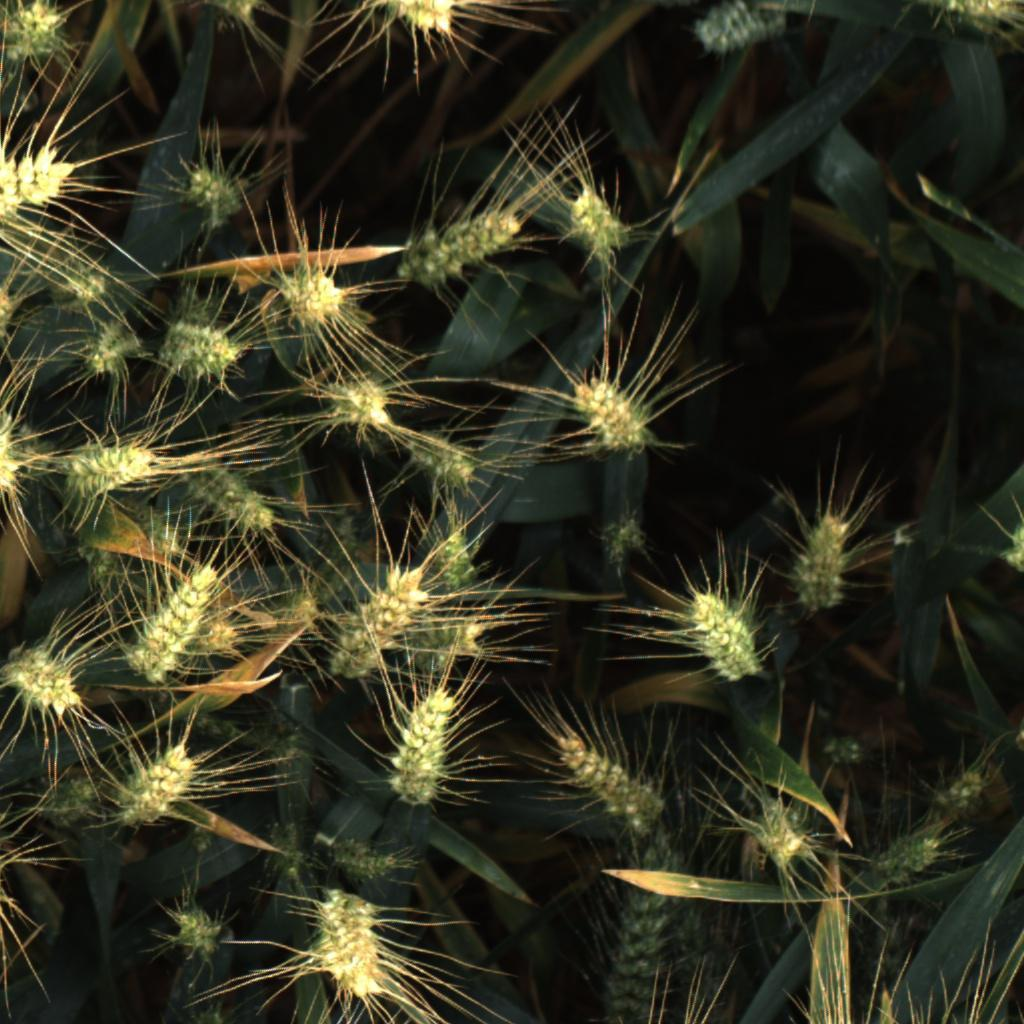0-0: (593, 817, 690, 1024), (550, 729, 671, 846), (129, 561, 227, 681), (396, 206, 527, 294), (330, 568, 431, 680), (275, 499, 370, 618), (657, 873, 728, 1024), (386, 691, 466, 810), (313, 896, 391, 1008), (0, 144, 82, 250), (568, 360, 653, 461), (676, 587, 765, 682), (187, 456, 285, 542), (3, 636, 89, 724), (789, 510, 860, 616), (125, 745, 201, 828), (100, 491, 187, 563), (158, 315, 244, 386), (168, 154, 248, 228), (267, 265, 350, 336), (60, 441, 164, 497), (564, 179, 633, 262), (409, 428, 495, 494), (694, 0, 786, 61), (78, 311, 155, 382), (0, 0, 80, 67), (319, 378, 404, 437), (349, 0, 460, 45), (415, 529, 487, 598), (589, 504, 656, 577), (412, 612, 489, 675), (742, 799, 807, 873), (906, 0, 1024, 39), (872, 831, 946, 892), (328, 828, 406, 885), (38, 261, 125, 312), (168, 889, 230, 960), (932, 758, 993, 823), (257, 815, 312, 886), (47, 769, 102, 836), (72, 529, 126, 592), (0, 796, 25, 930), (815, 725, 878, 772), (268, 587, 328, 636), (0, 405, 29, 495), (994, 507, 1024, 584), (191, 0, 265, 31), (0, 281, 23, 354), (176, 999, 236, 1024)
